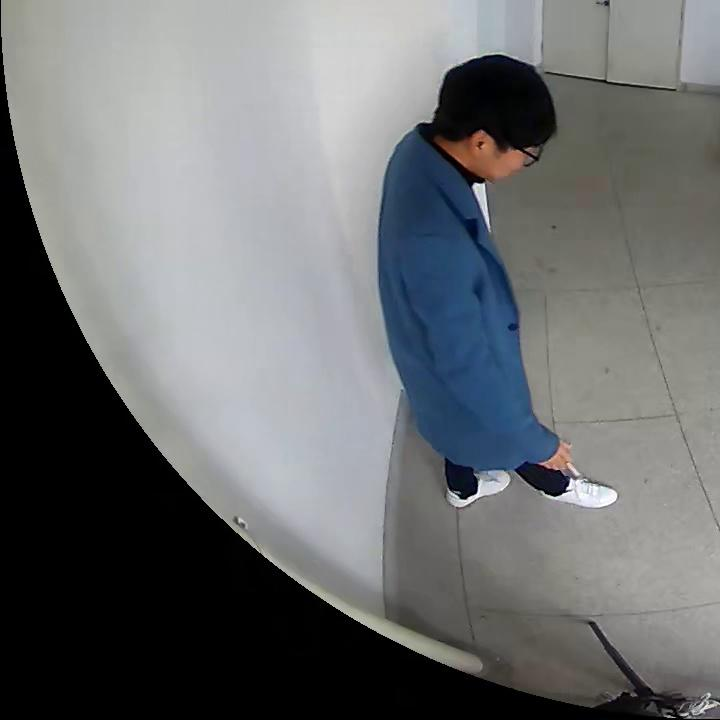handsmoke: (540, 438, 586, 480)
mouthwithoutsmoke: (439, 54, 557, 186)
